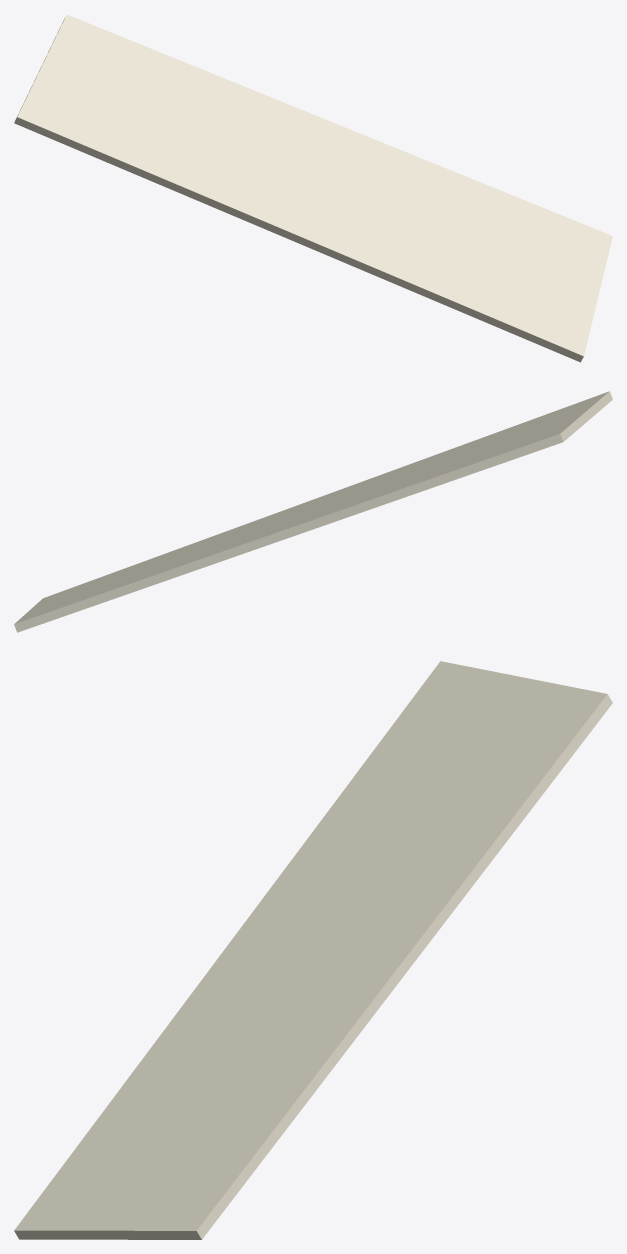
3 views of the same model, one above another, from view 1: azimuth 30°, elevation 25°; view 2: azimuth 210°, elevation 25°; view 3: azimuth 270°, elevation 25° (orthographic). The views are drawn at different scales.
Visible parts, largest first — view 1: ZA_f264d27f2365ffb0; view 2: ZA_f264d27f2365ffb0; view 3: ZA_f264d27f2365ffb0.
Part boxes in pixels (<box>): ZA_f264d27f2365ffb0: <box>14,14,612,362</box>; ZA_f264d27f2365ffb0: <box>14,391,612,632</box>; ZA_f264d27f2365ffb0: <box>14,661,612,1239</box>.
Size of the model in its own units: 0.0322 by 0.0158 by 0.0244.
